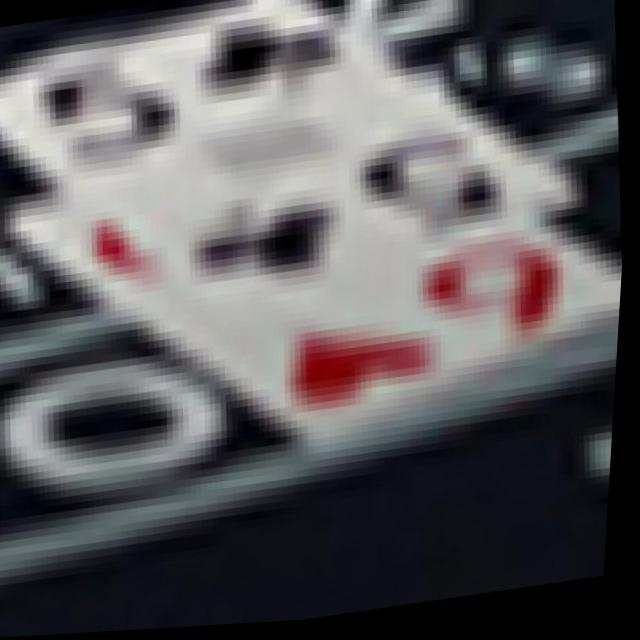Card-5: (0, 0, 573, 329)
Card-6: (13, 187, 625, 448)
